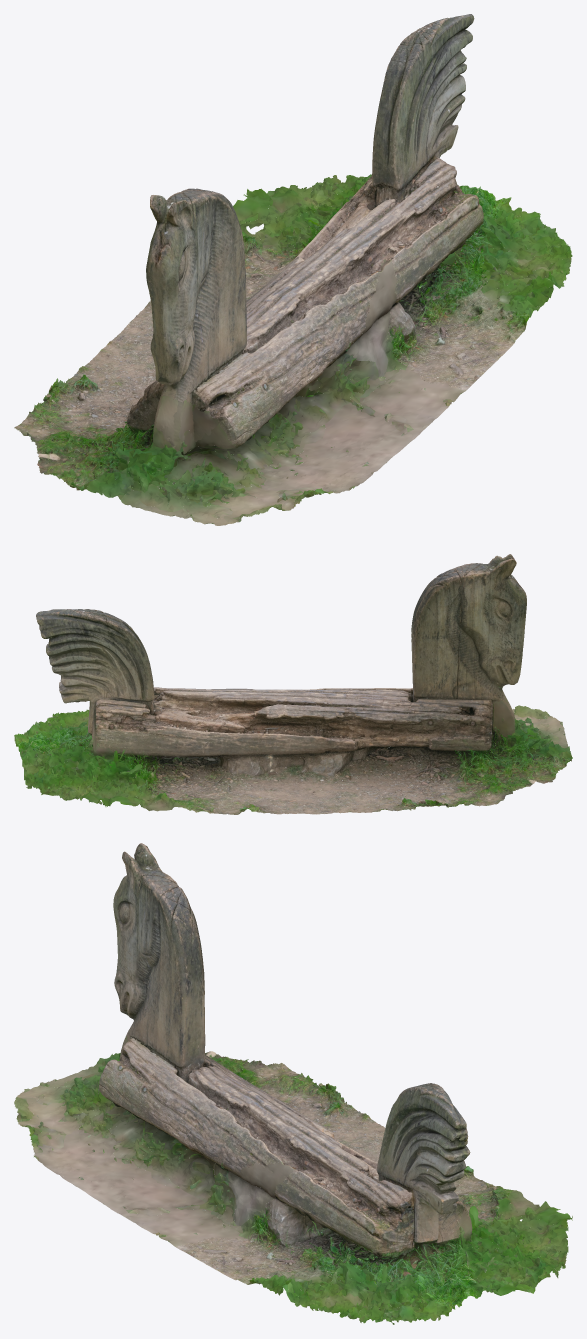
Rendered from sf-wooden-horse-c50c79.glb.
The picture shows the model from 3 angles, top to bottom: view 1: azimuth 30°, elevation 25°; view 2: azimuth 150°, elevation 25°; view 3: azimuth 270°, elevation 25°; orthographic projection. The views are drawn at different scales.
Parts seen in each view (by area): view 1: Model_material0_0, Model_material1_0, Model_material2_0, Model_material3_0; view 2: Model_material0_0, Model_material2_0, Model_material3_0, Model_material1_0; view 3: Model_material0_0, Model_material1_0, Model_material2_0, Model_material3_0.
Part boxes in pixels (x1,y1,x2,y2): Model_material0_0: (51, 30, 571, 525); Model_material1_0: (37, 15, 563, 521); Model_material2_0: (29, 15, 565, 524); Model_material3_0: (14, 14, 572, 519); Model_material0_0: (14, 555, 563, 808); Model_material2_0: (18, 554, 572, 814); Model_material3_0: (15, 560, 571, 814); Model_material1_0: (16, 558, 571, 813); Model_material0_0: (17, 853, 568, 1322); Model_material1_0: (20, 843, 570, 1324); Model_material2_0: (14, 851, 568, 1321); Model_material3_0: (18, 846, 572, 1323).
Size of the model in its own units: 3.06 by 1.36 by 2.62.
4 materials, 4 textured.
